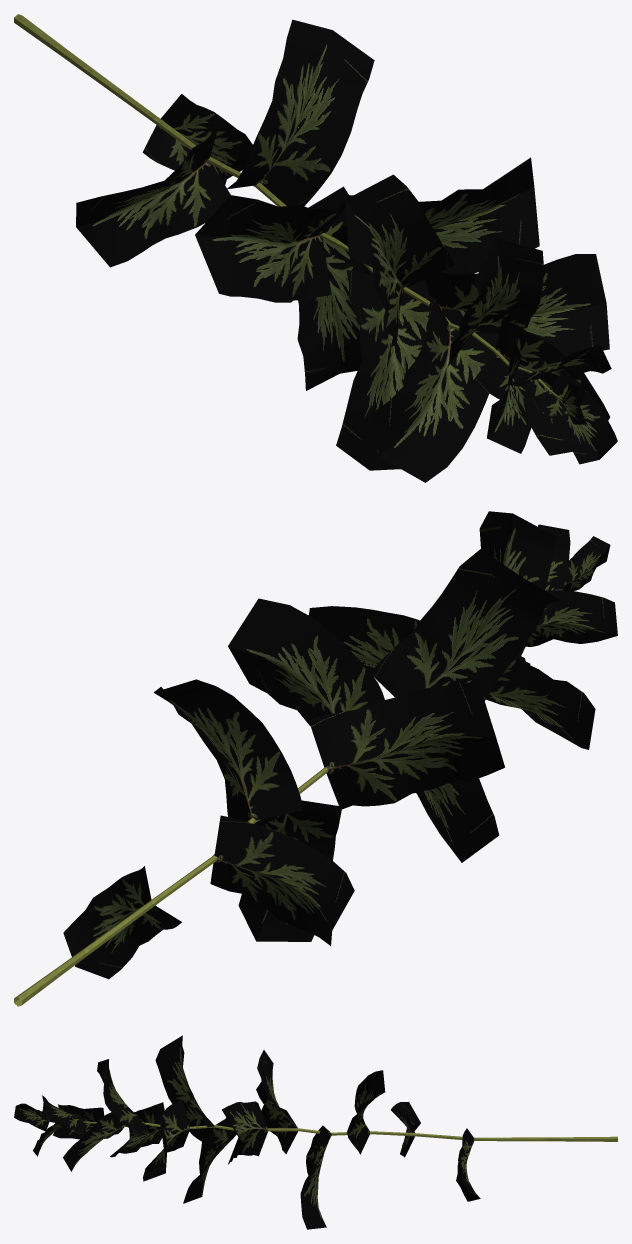
3 views of the same model, one above another, from view 1: azimuth 30°, elevation 25°; view 2: azimuth 150°, elevation 25°; view 3: azimuth 270°, elevation 25° (orthographic). The views are drawn at different scales.
Parts seen in each view (by area): view 1: GC03_1; view 2: GC03_1; view 3: GC03_1.
Boxes of the visible parts, x1,y1,x2,y2 form: GC03_1: (14,14,617,482); GC03_1: (14,511,617,1006); GC03_1: (14,1035,617,1229).
Bounding box in the file's own units: 0.2966 × 0.2992 × 0.9827.
Materials: 2 (2 with a texture image).
